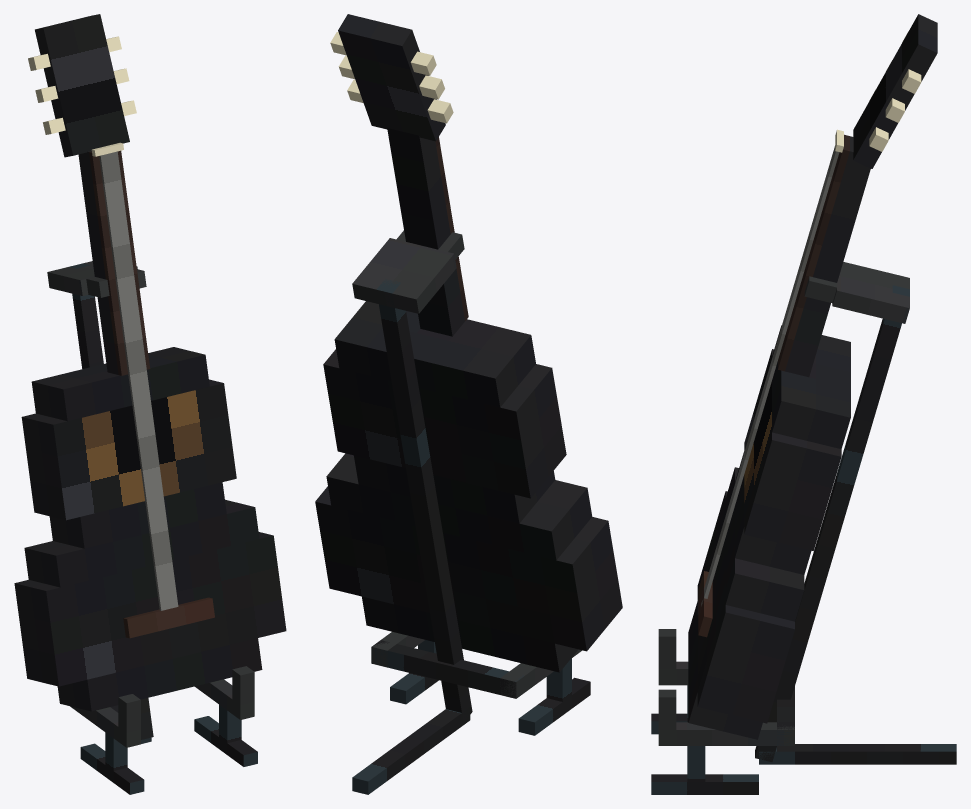
Rendered from guitar.glb.
3 views of the same model, side by side, from view 1: azimuth 30°, elevation 25°; view 2: azimuth 150°, elevation 25°; view 3: azimuth 270°, elevation 25° (orthographic). The views are drawn at different scales.
Parts seen in each view (by area): view 1: body_1, body_upper, strings, headstock, body_2, body_4, body_0, body_3, fretboard, stand_foot (×2), neck, stand_lip (×2) (+5 smaller); view 2: body_1, body_upper, body_4, stand_post, body_2, headstock, neck, body_0, stand_yoke, body_3, stand_cross, stand_back_leg (+4 smaller); view 3: body_1, body_upper, stand_post, body_4, neck, headstock, body_2, stand_back_leg, stand_yoke, strings, body_3, fretboard (+8 smaller).
Boxes of the visible parts, x1,y1,x2,y2 form: body_1: (14,532,286,686); body_upper: (21,379,236,520); strings: (99,151,178,610); headstock: (35,14,129,157); body_2: (24,499,259,587); body_4: (31,347,209,421); body_0: (57,638,262,711); body_3: (49,482,226,548); fretboard: (89,150,150,375); stand_foot (×2): (80,716,257,794); neck: (78,150,118,374); stand_lip (×2): (118,666,254,747); body_1: (315,486,622,651); body_upper: (323,349,566,498); body_4: (334,301,535,407); stand_post: (376,279,472,722); body_2: (326,453,592,560); headstock: (338,14,445,141); neck: (387,128,464,336); body_0: (362,596,578,672); stand_yoke: (352,238,456,313); body_3: (354,455,555,523); stand_cross: (371,640,523,698); stand_back_leg: (352,707,470,794); body_1: (697,491,794,723); body_upper: (744,349,841,550); stand_post: (755,285,909,761); body_4: (772,325,850,449); neck: (785,136,870,377); headstock: (853,14,937,168); body_2: (725,467,804,621); stand_back_leg: (759,744,956,764); stand_yoke: (832,262,909,323); strings: (701,145,839,606); body_3: (735,451,811,574); fretboard: (778,134,849,371).
Bounding box in the file's own units: 0.5 × 1.4 × 0.5312.
1 material, 1 textured.
